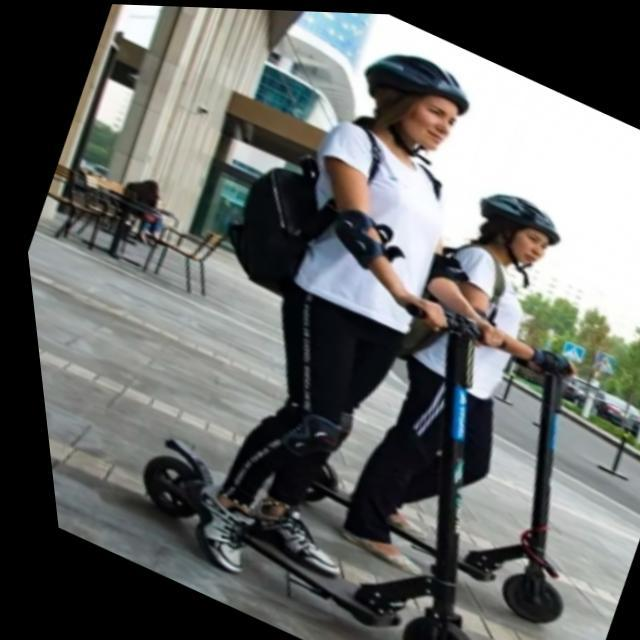Helmet: (360, 51, 478, 154), (473, 187, 569, 270)
